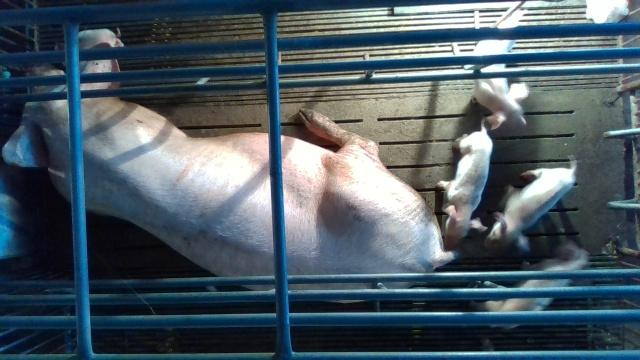piglet: (480, 244, 590, 328), (483, 154, 579, 250), (439, 119, 495, 249), (476, 8, 530, 130)
sow-sit: (2, 42, 461, 303)
